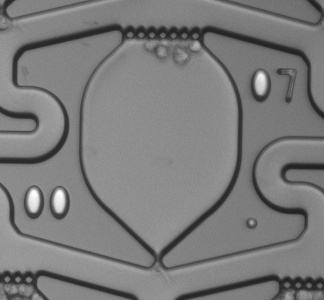AptNum: (244, 62, 304, 110)
Marker: (241, 213, 263, 234)
StNum: (15, 179, 79, 230)
Trap: (131, 257, 188, 300)
